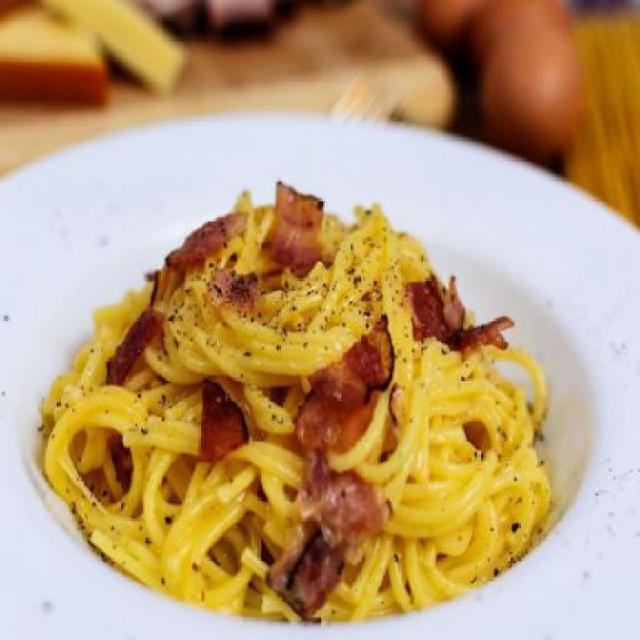Pasta with carbonara sauce: (34, 178, 606, 612)
